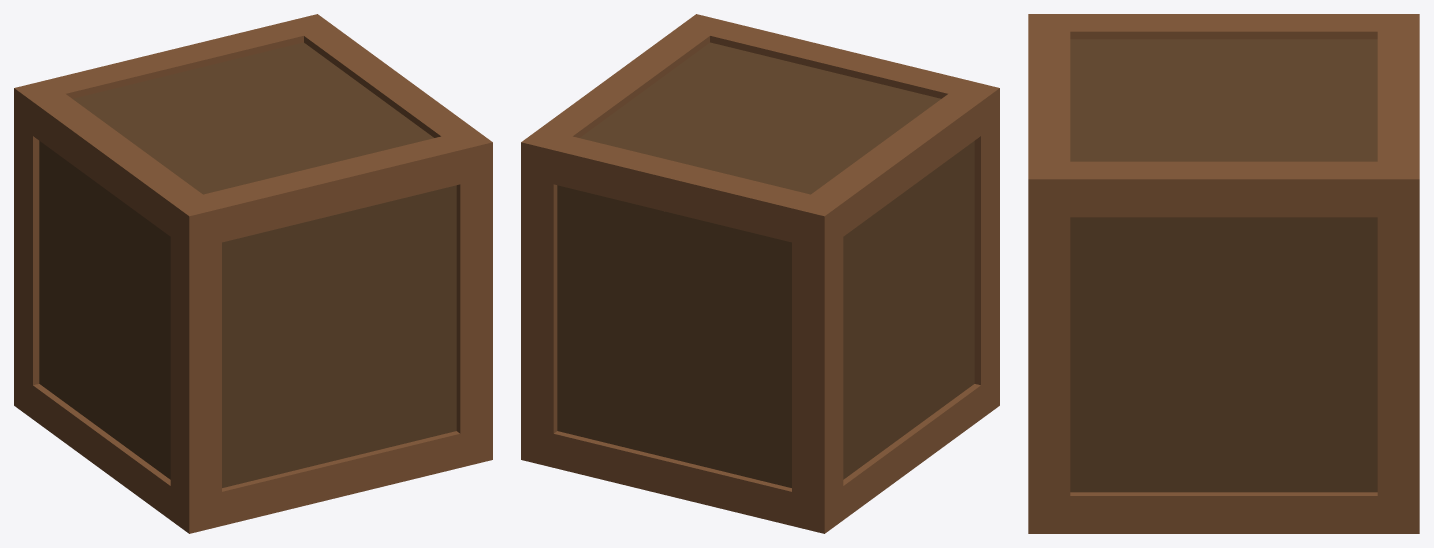
Rendered from crate-box.glb.
3 renders of one model, left to right at view 1: azimuth 30°, elevation 25°; view 2: azimuth 150°, elevation 25°; view 3: azimuth 270°, elevation 25°, orthographic. The views are drawn at different scales.
Parts seen in each view (by area): view 1: crate-box; view 2: crate-box; view 3: crate-box.
Part boxes in pixels (bbox=[...]): crate-box: bbox=[14, 14, 492, 533]; crate-box: bbox=[521, 14, 999, 533]; crate-box: bbox=[1028, 14, 1419, 533].
Size of the model in its own units: 1 by 1 by 1.
Materials: 1 (1 with a texture image).
